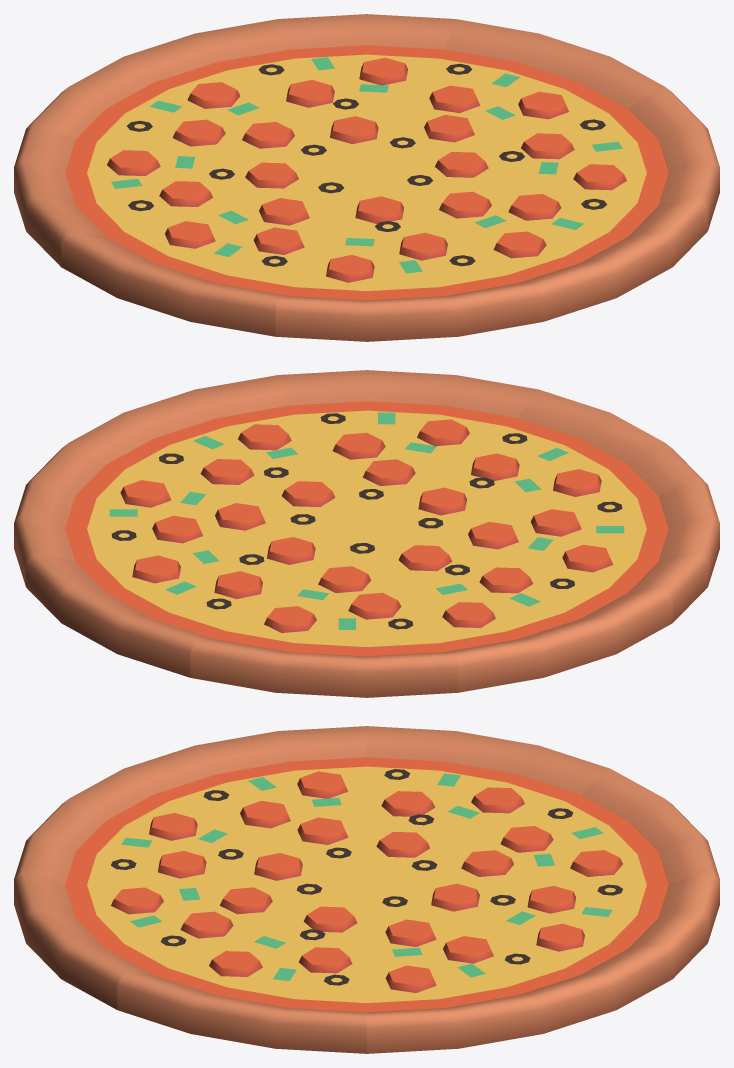
File: pizza.glb
3 renders of one model, top to bottom at view 1: azimuth 30°, elevation 25°; view 2: azimuth 150°, elevation 25°; view 3: azimuth 270°, elevation 25°, orthographic.
Visible parts, largest first — view 1: slice6; view 2: slice6; view 3: slice6.
Boxes of the visible parts, left/top/right/bottom form: slice6: left=14, top=14, right=719, bottom=341; slice6: left=14, top=370, right=719, bottom=697; slice6: left=14, top=726, right=719, bottom=1053.
Size of the model in its own units: 0.8418 by 0.0435 by 0.8418.
Materials: 1 (1 with a texture image).
